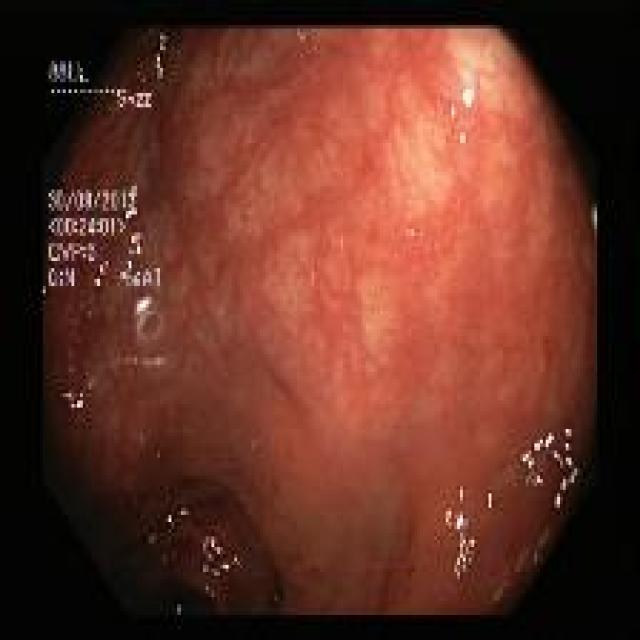ulcerative-colitis: (44, 28, 596, 615)
